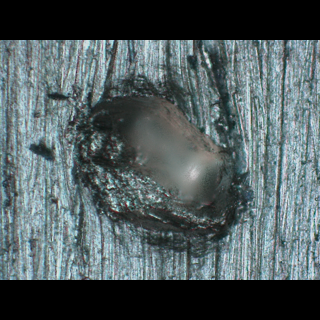d: (63, 74, 258, 263)
